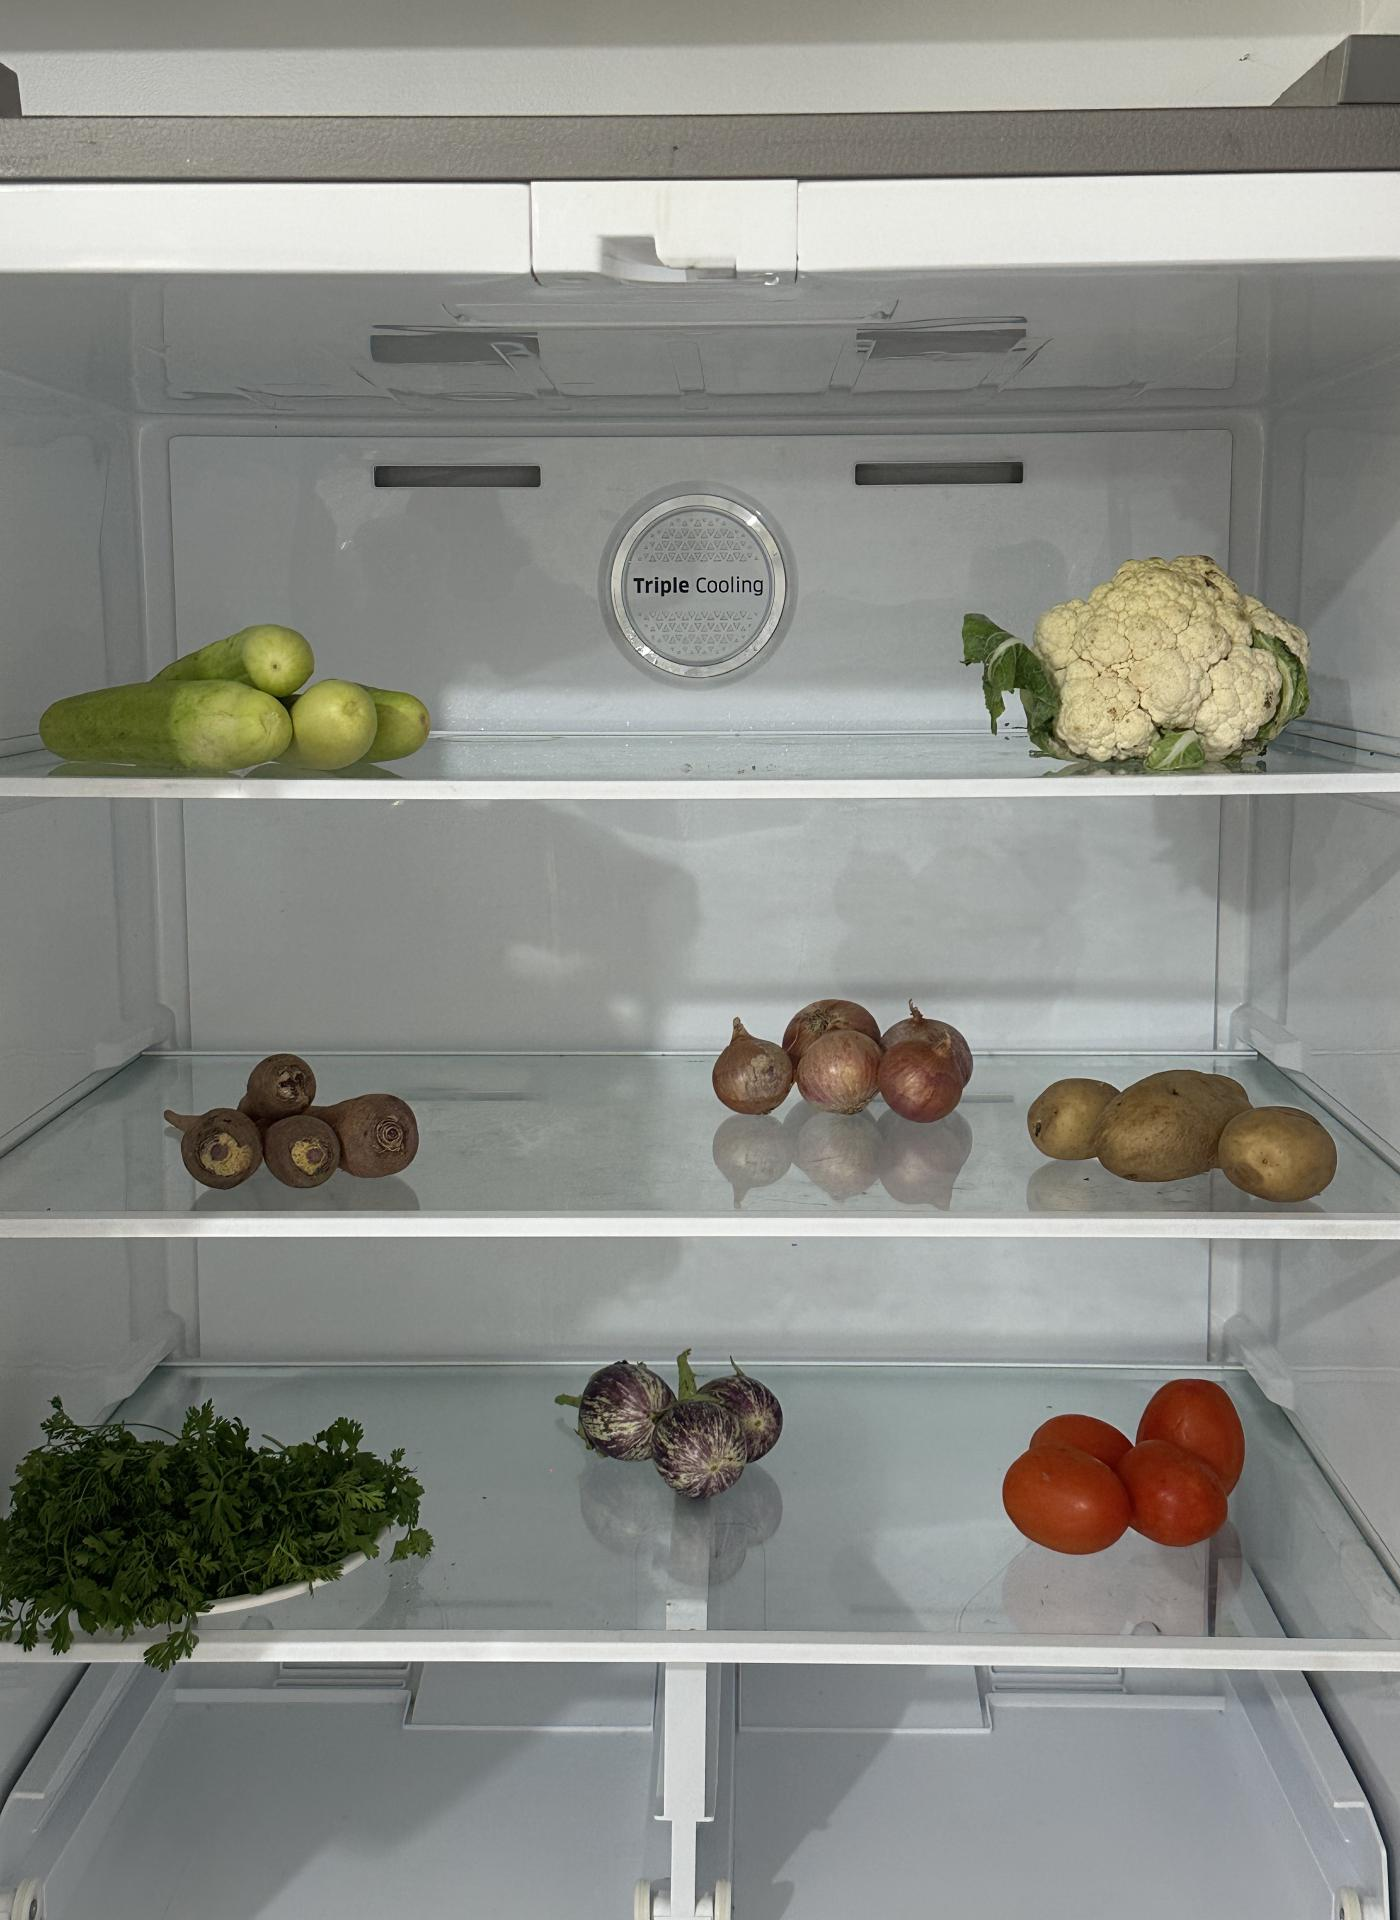carrots: (155, 1051, 428, 1193)
cauliflower: (996, 559, 1314, 763)
coriander: (30, 1403, 434, 1637)
cucumber: (36, 614, 431, 777)
onion: (707, 993, 977, 1125)
potato: (1030, 1066, 1336, 1206)
tomato: (1005, 1368, 1246, 1555)
